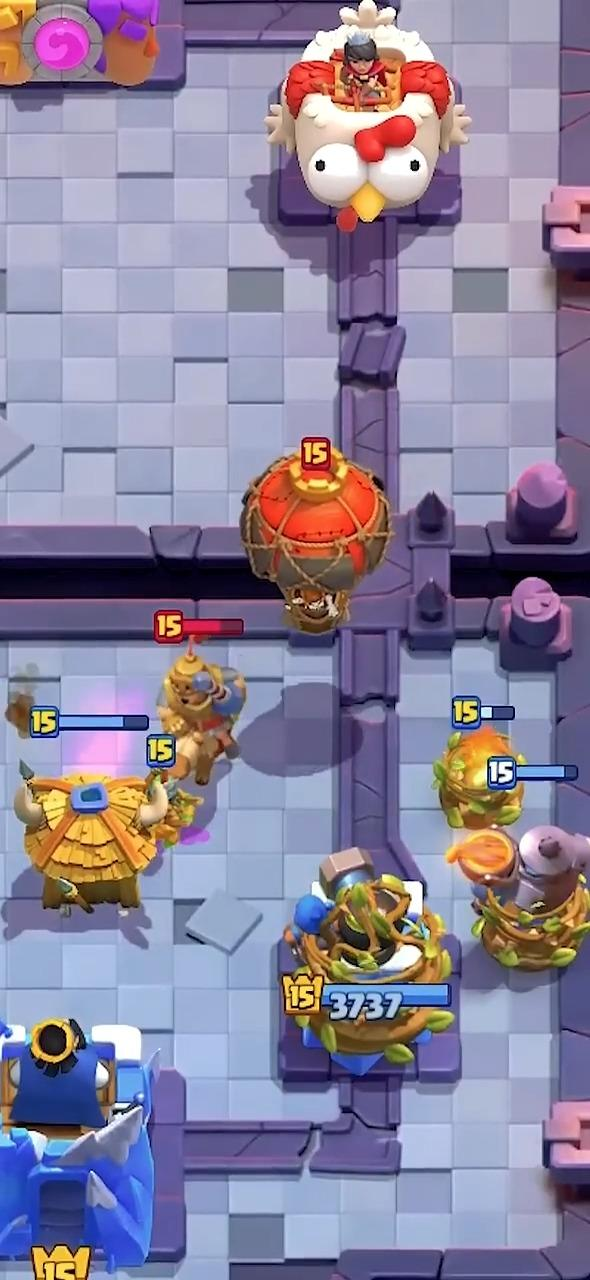baloon: (240, 441, 392, 634)
goblin hut: (14, 767, 196, 913)
prince: (157, 644, 246, 785)
vines: (285, 876, 450, 996), (296, 981, 452, 1062), (472, 876, 589, 972), (433, 735, 523, 830)
